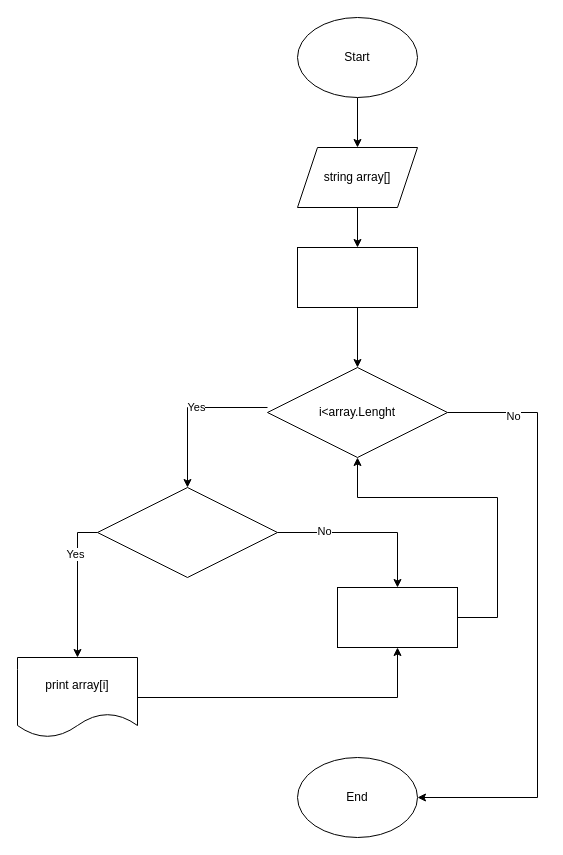
Image size: 563x855. Some labels were removed from this diagram. Here are the shapes that lost their labels. From the top down, the centre of each, then its label:
At point 357,277: "array.Length".
At point 187,532: "array[i].Lenght<=3".
At point 397,617: "i++".
